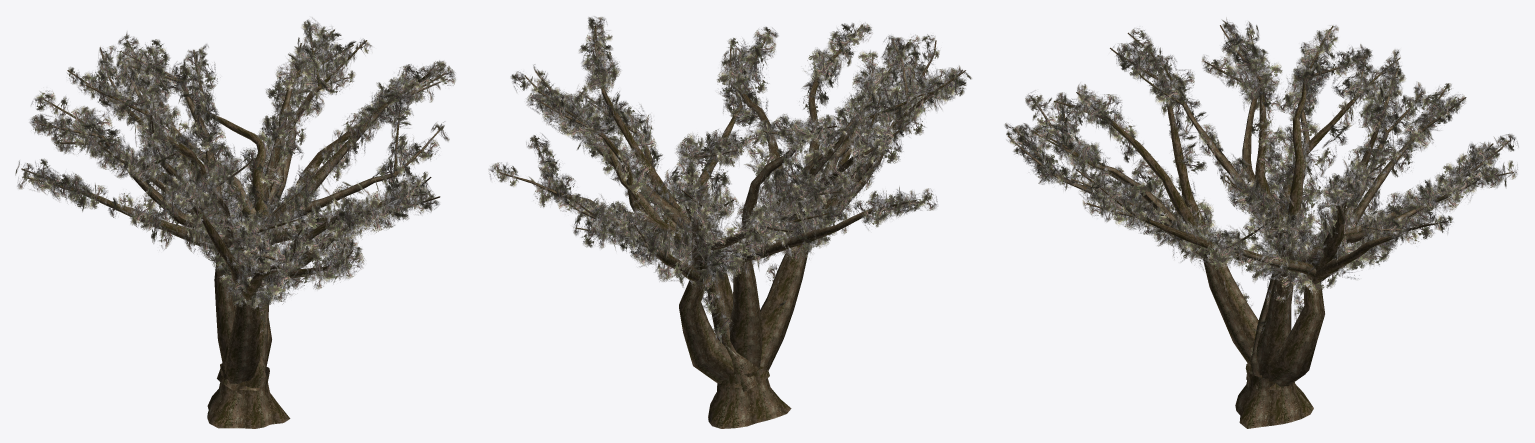
File: blossom_2x_4.glb
3 renders of one model, left to right at view 1: azimuth 30°, elevation 25°; view 2: azimuth 150°, elevation 25°; view 3: azimuth 270°, elevation 25°, orthographic. The views are drawn at different scales.
Visible parts, largest first — view 1: blossom; view 2: blossom; view 3: blossom.
Part boxes in pixels (x1=…): blossom: x1=15, y1=17, x2=456, y2=428; blossom: x1=488, y1=16, x2=971, y2=428; blossom: x1=1004, y1=17, x2=1518, y2=428.
Size of the model in its own units: 42.09 by 33.06 by 45.25.
2 materials, 2 textured.
